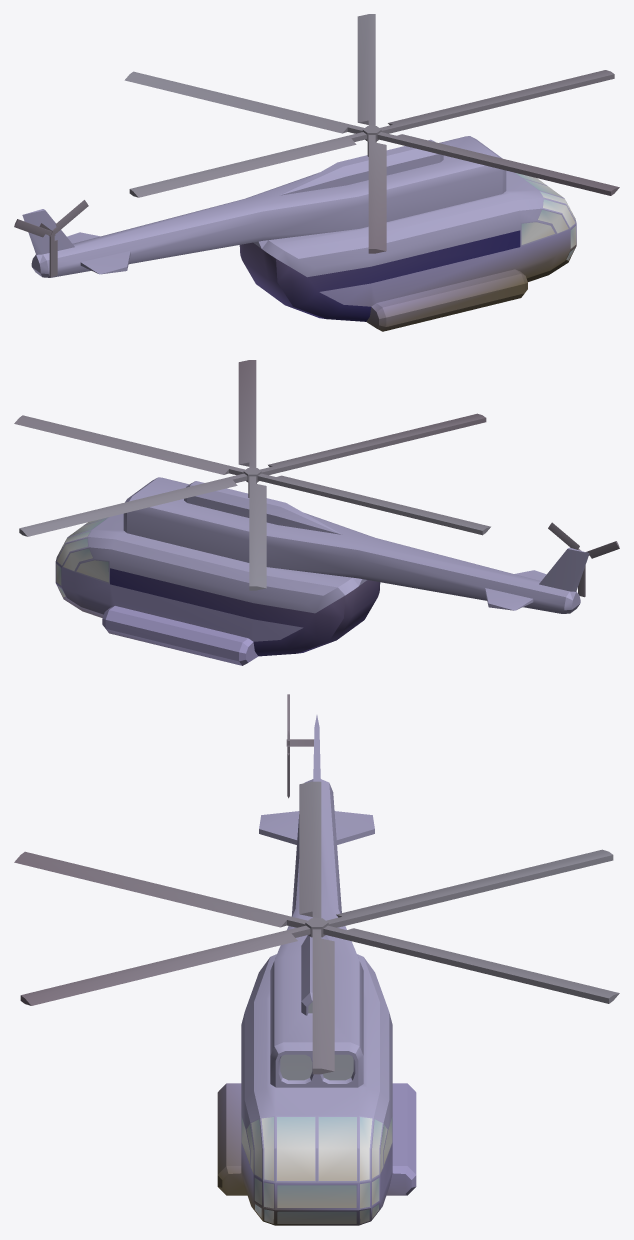
3 renders of one model, top to bottom at view 1: azimuth 30°, elevation 25°; view 2: azimuth 150°, elevation 25°; view 3: azimuth 270°, elevation 25°, orthographic. The views are drawn at different scales.
Visible parts, largest first — view 1: Mi8.001; view 2: Mi8.001; view 3: Mi8.001.
Part boxes in pixels (x1,y1,x2,y2): Mi8.001: (14,14,619,331); Mi8.001: (14,360,619,665); Mi8.001: (14,694,619,1225).
Bounding box in the file's own units: 936 × 264 × 658.
